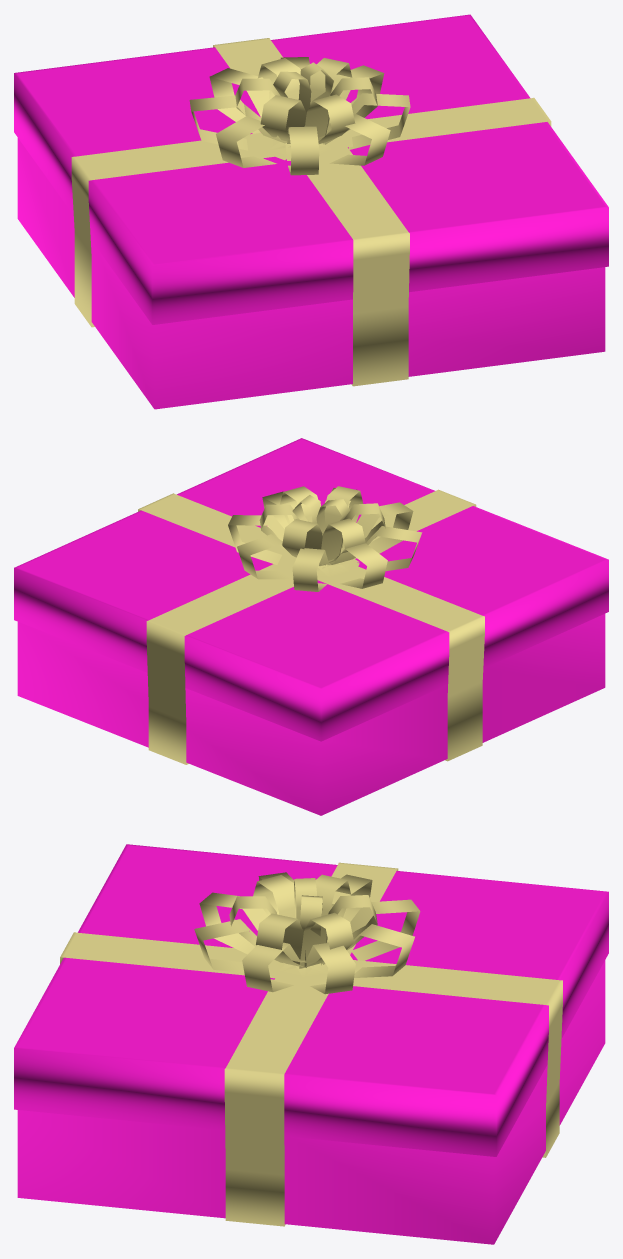
The model's file is giftbox3.glb.
3 renders of one model, top to bottom at view 1: azimuth 30°, elevation 25°; view 2: azimuth 150°, elevation 25°; view 3: azimuth 270°, elevation 25°, orthographic. The views are drawn at different scales.
Parts seen in each view (by area): view 1: Куб.004, Куб.005, Плоскость.003; view 2: Куб.004, Куб.005, Плоскость.003; view 3: Куб.004, Куб.005, Плоскость.003.
Part boxes in pixels (box(x1,y1,x2,y2)): Куб.004: box(14, 14, 608, 409); Куб.005: box(71, 38, 551, 386); Плоскость.003: box(189, 57, 410, 175); Куб.004: box(14, 438, 608, 815); Куб.005: box(138, 489, 484, 764); Плоскость.003: box(228, 486, 422, 591); Куб.004: box(14, 844, 608, 1244); Куб.005: box(60, 862, 562, 1226); Плоскость.003: box(194, 872, 420, 994).
Bounding box in the file's own units: 0.6925 × 0.2941 × 0.6925.
